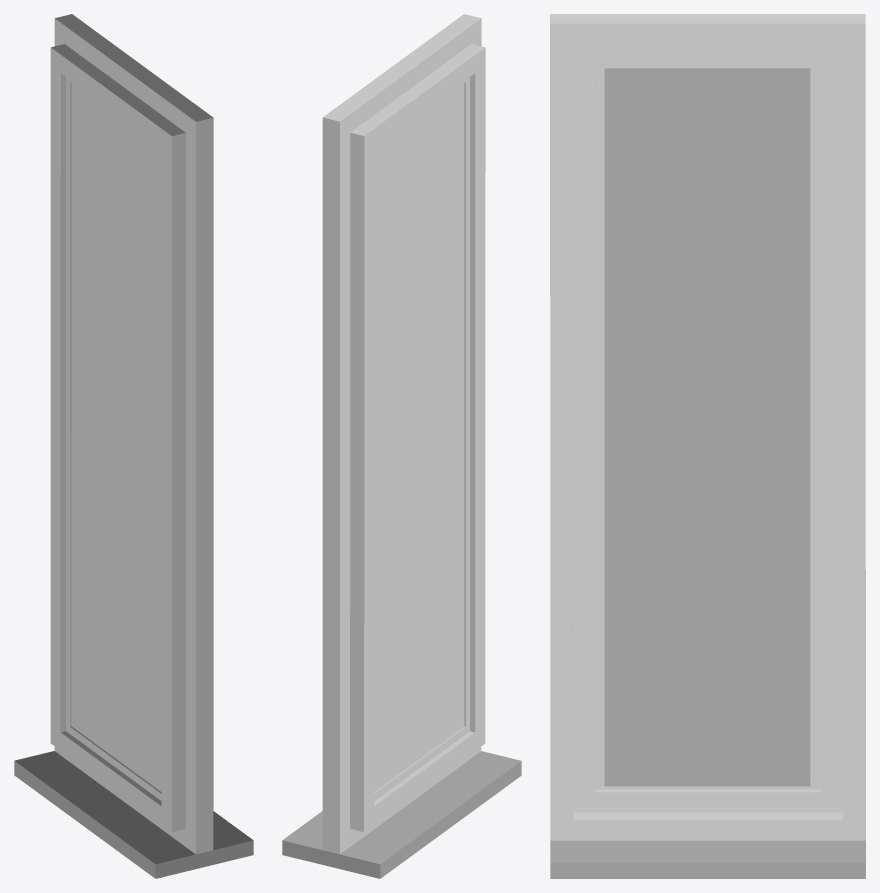
Rendered from Window_f11da0b0.obj.
The picture shows the model from 3 angles, left to right: view 1: azimuth 30°, elevation 25°; view 2: azimuth 150°, elevation 25°; view 3: azimuth 270°, elevation 25°; orthographic projection. The views are drawn at different scales.
Parts seen in each view (by area): view 1: FP315:Window.006_b97c0ee6, FP315:WindowPane_18c7d492; view 2: FP315:Window.006_b97c0ee6, FP315:WindowPane_18c7d492; view 3: QuadDecalSpawnPlane_9bc66f97, FP315:Window.006_b97c0ee6, FP315:WindowPane_18c7d492.
Part boxes in pixels (<box>): FP315:Window.006_b97c0ee6: <box>14,14,253,878</box>; FP315:WindowPane_18c7d492: <box>71,84,161,791</box>; FP315:Window.006_b97c0ee6: <box>282,14,521,878</box>; FP315:WindowPane_18c7d492: <box>374,84,464,791</box>; QuadDecalSpawnPlane_9bc66f97: <box>604,68,810,786</box>; FP315:Window.006_b97c0ee6: <box>550,14,865,878</box>; FP315:WindowPane_18c7d492: <box>604,62,811,780</box>.
Size of the model in its own units: 0.28 by 2.04 by 0.7007.
